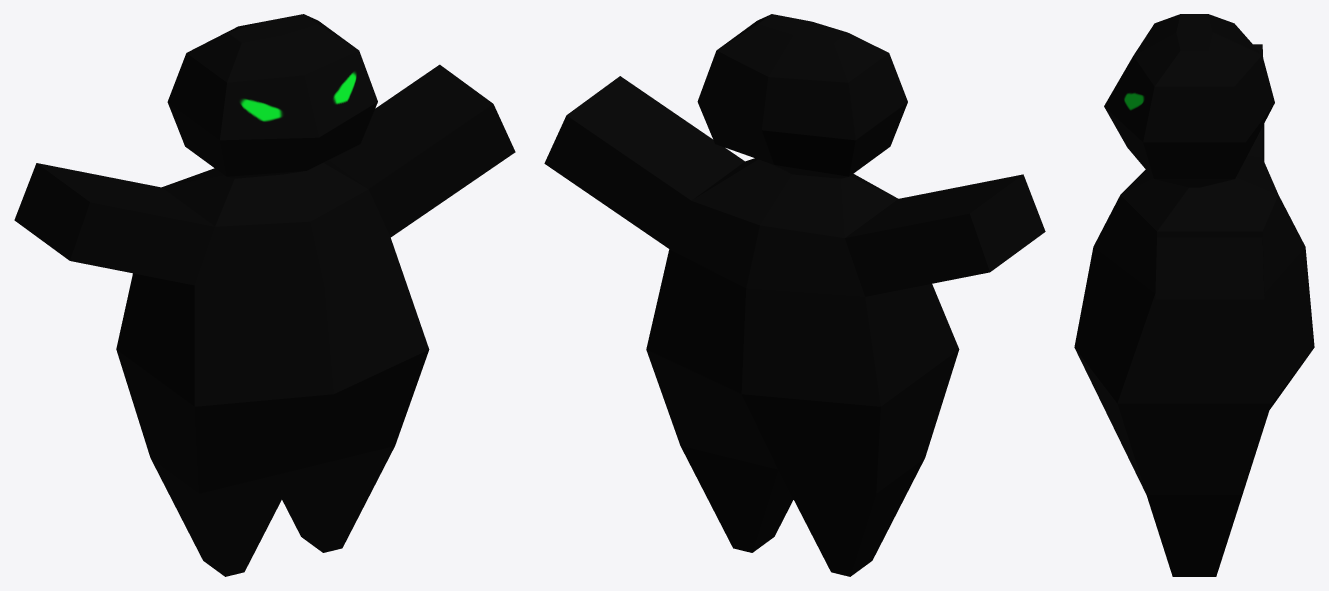
The model's file is Protagonist.fbx.
The picture shows the model from 3 angles, left to right: view 1: azimuth 30°, elevation 25°; view 2: azimuth 150°, elevation 25°; view 3: azimuth 270°, elevation 25°; orthographic projection.
Visible parts, largest first — view 1: Cube; view 2: Cube; view 3: Cube.
Part boxes in pixels (x1=…): Cube: x1=14, y1=14, x2=515, y2=576; Cube: x1=544, y1=14, x2=1045, y2=576; Cube: x1=1074, y1=14, x2=1314, y2=576.
Bounding box in the file's own units: 125 × 140 × 59.2.
